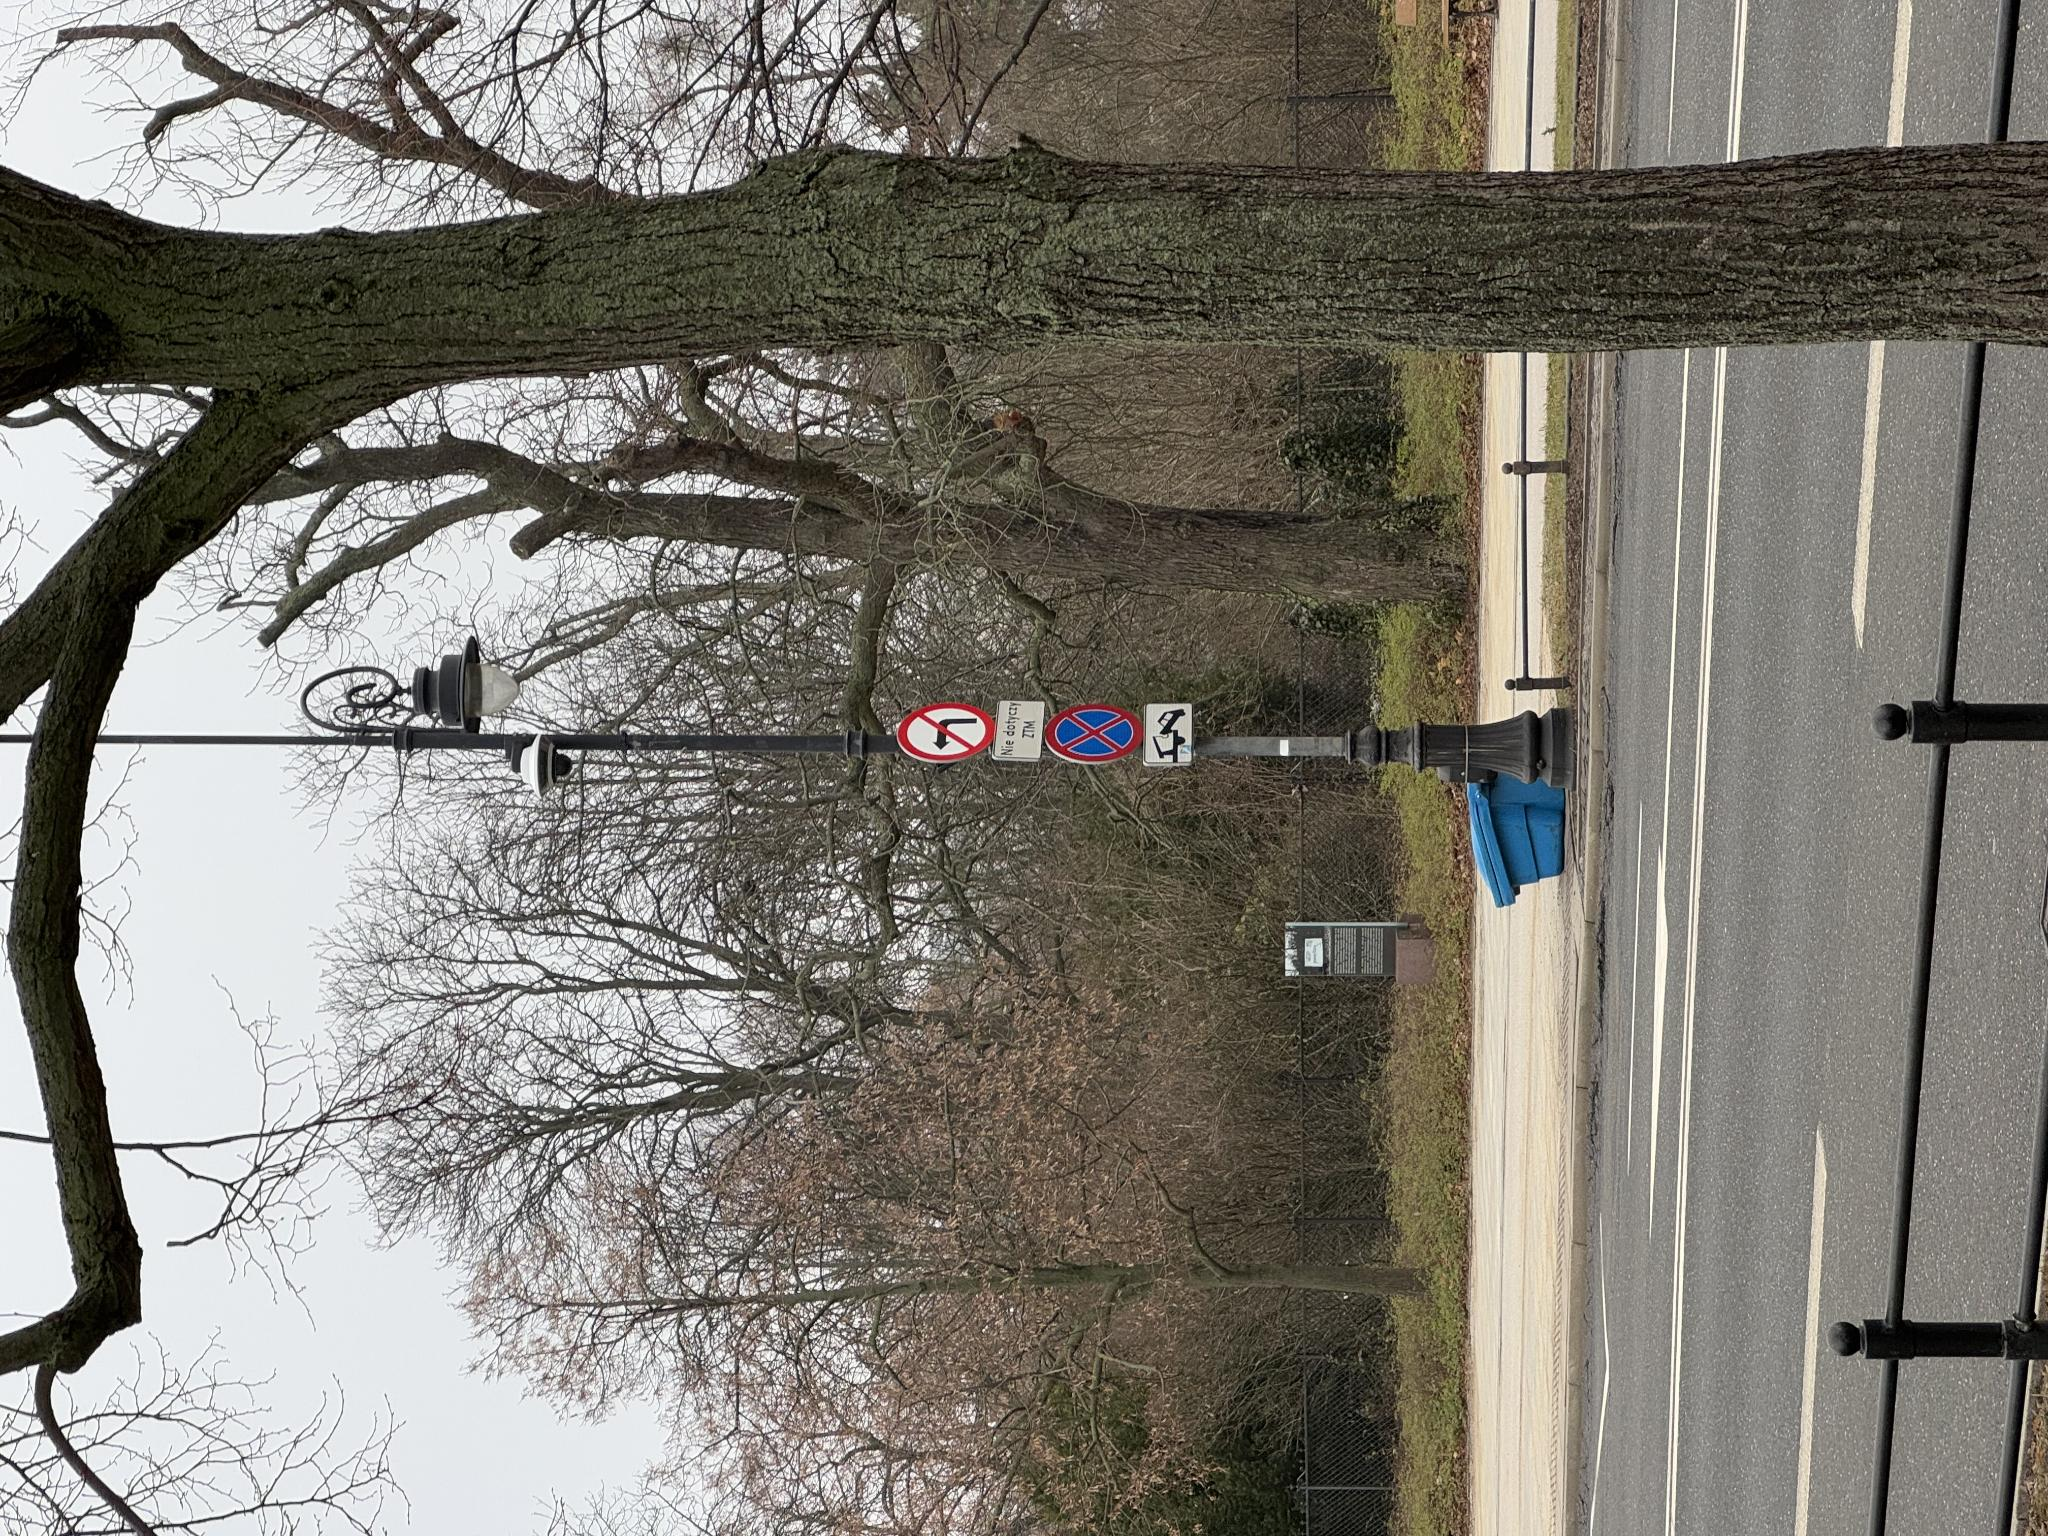other: (769, 1144, 835, 1194), (776, 992, 837, 1046)
prohibitory: (771, 1044, 834, 1144), (772, 895, 834, 997)
